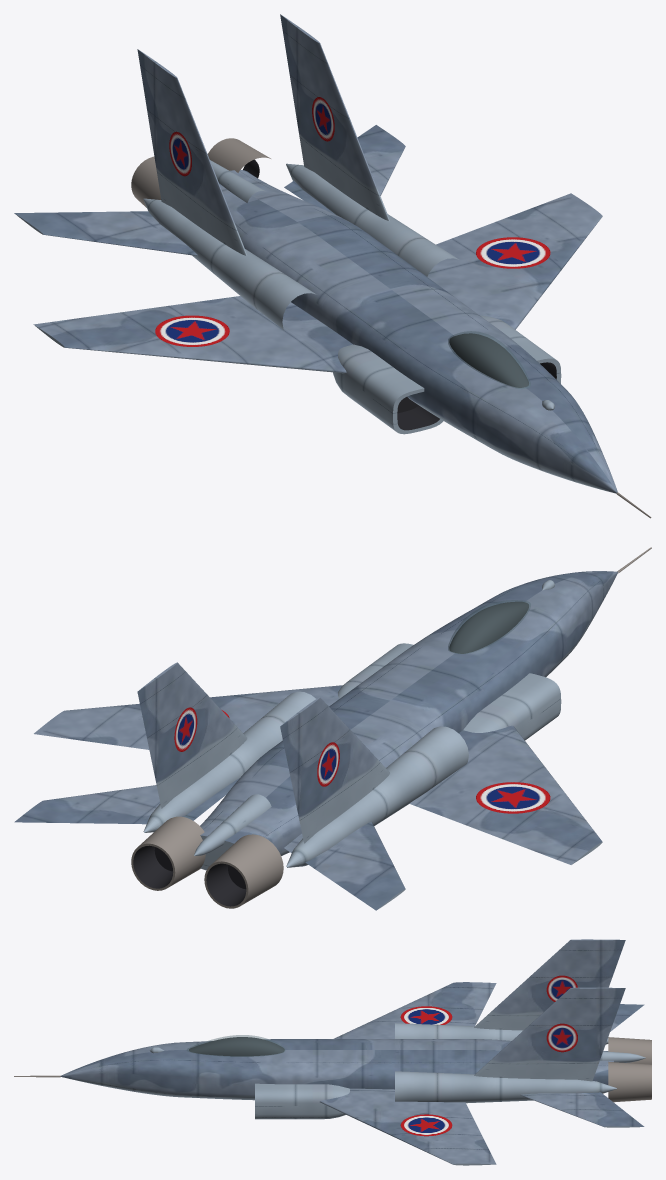
3 renders of one model, top to bottom at view 1: azimuth 30°, elevation 25°; view 2: azimuth 150°, elevation 25°; view 3: azimuth 270°, elevation 25°, orthographic. The views are drawn at different scales.
Visible parts, largest first — view 1: Fuselage, Wing0_R, Wing0_L, Fin3_L, Fin3_R, Boom_R, Intake_R, Htail2_R, Boom_L, Canopy, Cockpit, Htail2_L (+8 smaller); view 2: Fuselage, Wing0_R, Fin3_R, Fin3_L, Boom_R, Wing0_L, Htail2_R, Boom_L, Htail2_L, Nozzle_R, Nozzle_L, Intake_R (+7 smaller); view 3: Fuselage, Fin3_L, Wing0_L, Fin3_R, Boom_L, Wing0_R, Intake_L, Htail2_L, Boom_R, Nozzle_L, Canopy, Cockpit (+7 smaller).
Boxes of the visible parts, left/top/right/bottom form: Fuselage: left=219, top=170, right=617, bottom=493; Wing0_R: left=33, top=296, right=352, bottom=373; Wing0_L: left=427, top=193, right=602, bottom=329; Fin3_L: left=280, top=14, right=389, bottom=220; Fin3_R: left=137, top=49, right=247, bottom=255; Boom_R: left=143, top=198, right=316, bottom=329; Intake_R: left=333, top=344, right=443, bottom=434; Htail2_R: left=14, top=211, right=197, bottom=255; Boom_L: left=286, top=163, right=459, bottom=276; Canopy: left=448, top=331, right=530, bottom=388; Cockpit: left=449, top=333, right=528, bottom=387; Htail2_L: left=284, top=125, right=405, bottom=214; Fuselage: left=200, top=571, right=618, bottom=870; Wing0_R: left=409, top=725, right=602, bottom=864; Fin3_R: left=280, top=697, right=389, bottom=843; Fin3_L: left=137, top=662, right=247, bottom=808; Boom_R: left=286, top=726, right=468, bottom=867; Wing0_L: left=34, top=685, right=342, bottom=749; Htail2_R: left=284, top=821, right=405, bottom=910; Boom_L: left=143, top=691, right=315, bottom=832; Htail2_L: left=14, top=777, right=240, bottom=824; Nozzle_R: left=204, top=834, right=283, bottom=908; Nozzle_L: left=131, top=816, right=205, bottom=890; Intake_R: left=463, top=673, right=561, bottom=740; Fuselage: left=60, top=1039, right=613, bottom=1100; Fin3_L: left=474, top=987, right=625, bottom=1081; Wing0_L: left=320, top=1088, right=496, bottom=1165; Fin3_R: left=474, top=939, right=625, bottom=1030; Boom_L: left=395, top=1071, right=616, bottom=1103; Wing0_R: left=334, top=982, right=496, bottom=1038; Intake_L: left=255, top=1083, right=349, bottom=1119; Htail2_L: left=520, top=1092, right=644, bottom=1127; Boom_R: left=395, top=1023, right=608, bottom=1044; Nozzle_L: left=608, top=1061, right=651, bottom=1102; Canopy: left=187, top=1035, right=285, bottom=1056; Cockpit: left=189, top=1037, right=284, bottom=1056.
Size of the model in its own units: 14.7 by 4.95 by 21.85.
6 materials, 2 textured.
